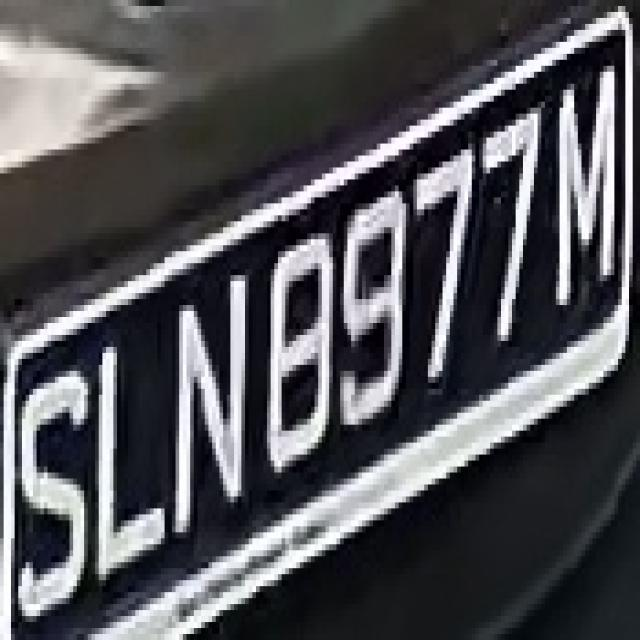7: (410, 137, 479, 400), (472, 102, 541, 365)
8: (260, 233, 344, 467)
9: (322, 191, 406, 431)
L: (91, 305, 172, 586)
M: (538, 60, 629, 311)
N: (172, 263, 260, 538)
S: (0, 329, 91, 610)
